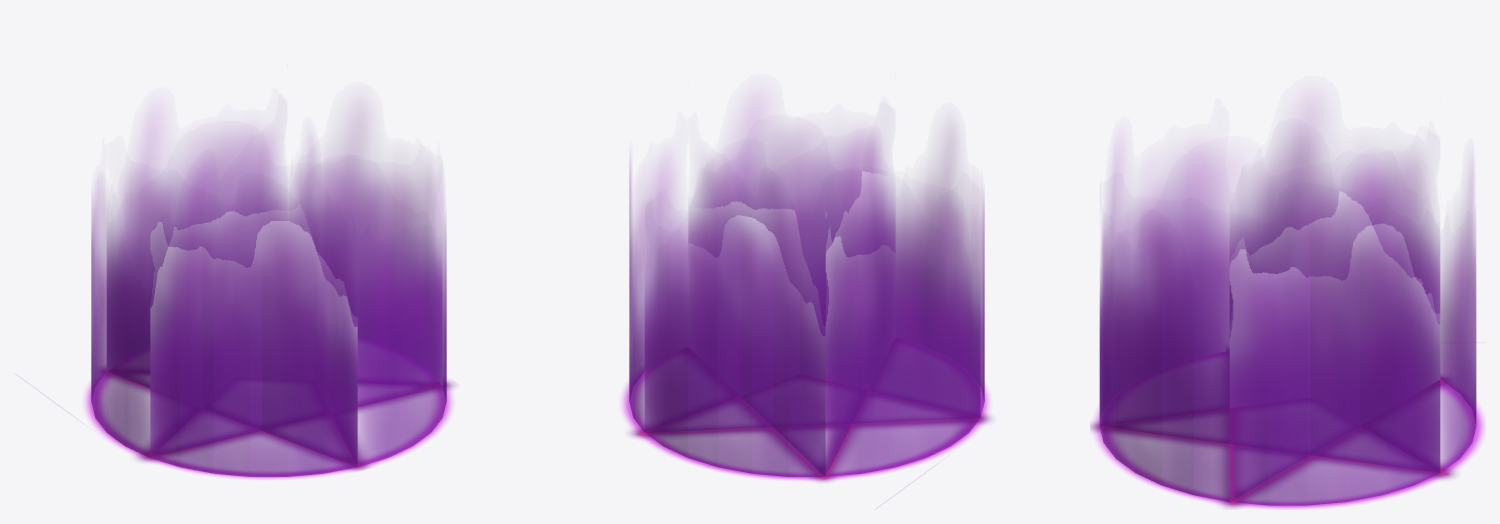
The model's file is gaze_of_darkness.gltf.
The picture shows the model from 3 angles, left to right: view 1: azimuth 30°, elevation 25°; view 2: azimuth 150°, elevation 25°; view 3: azimuth 270°, elevation 25°; orthographic projection. The views are drawn at different scales.
Visible parts, largest first — view 1: Cylinder; view 2: Cylinder; view 3: Cylinder.
Part boxes in pixels (<box>): Cylinder: <box>16,111,454,478</box>; Cylinder: <box>622,104,990,509</box>; Cylinder: <box>1090,107,1484,508</box>.
Size of the model in its own units: 2.1 by 1.95 by 2.1.
